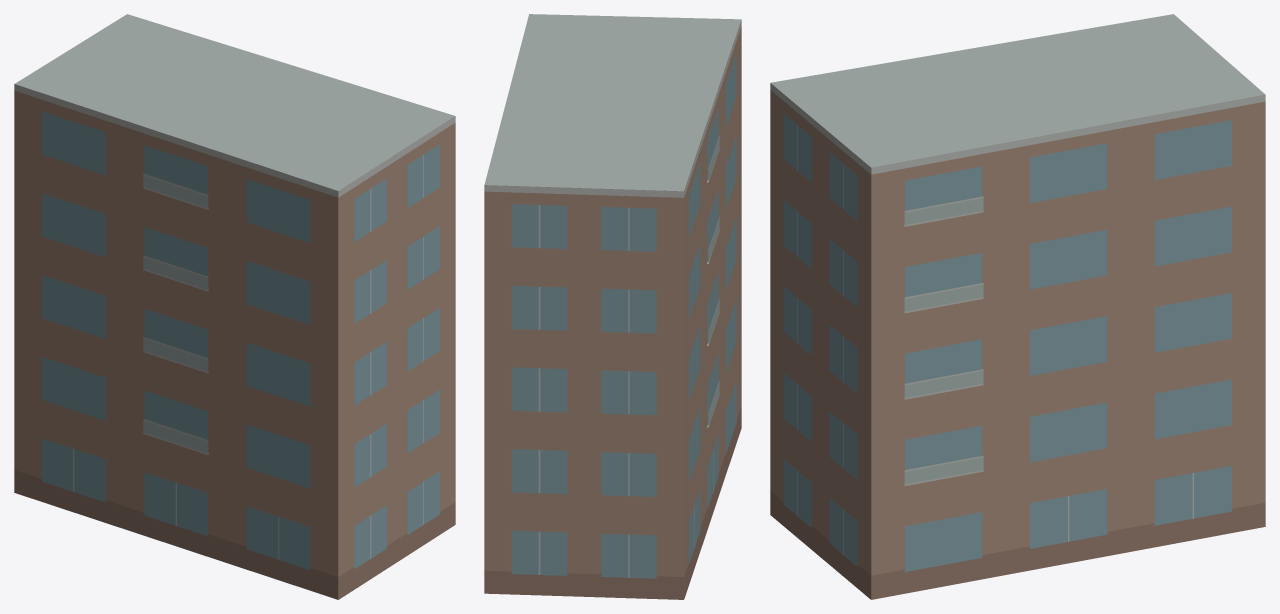
File: residential-d622b417-b2e3-4881-9984-a4d2c39b4075.glb
3 views of the same model, side by side, from view 1: azimuth 30°, elevation 25°; view 2: azimuth 150°, elevation 25°; view 3: azimuth 270°, elevation 25° (orthographic). The views are drawn at different scales.
Visible parts, largest first — view 1: residential-d622b417-b2e3-4881-9984-a4d2c39b4075.tmp; view 2: residential-d622b417-b2e3-4881-9984-a4d2c39b4075.tmp; view 3: residential-d622b417-b2e3-4881-9984-a4d2c39b4075.tmp.
Boxes of the visible parts, x1,y1,x2,y2 form: residential-d622b417-b2e3-4881-9984-a4d2c39b4075.tmp: [14, 14, 455, 599]; residential-d622b417-b2e3-4881-9984-a4d2c39b4075.tmp: [484, 14, 741, 599]; residential-d622b417-b2e3-4881-9984-a4d2c39b4075.tmp: [770, 14, 1265, 599].
Size of the model in its own units: 11.65 by 15.25 by 15.85.
